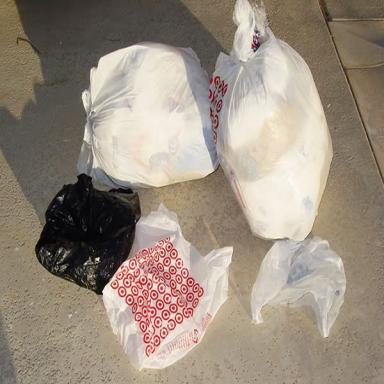plasticbag: (104, 201, 234, 370), (74, 42, 220, 188), (32, 170, 142, 296), (248, 238, 348, 336)
